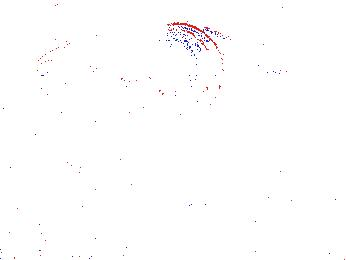moon jellyfish: (133, 23, 225, 124), (204, 1, 309, 76), (35, 44, 130, 104), (284, 2, 346, 69), (66, 3, 158, 41), (15, 11, 66, 65)
